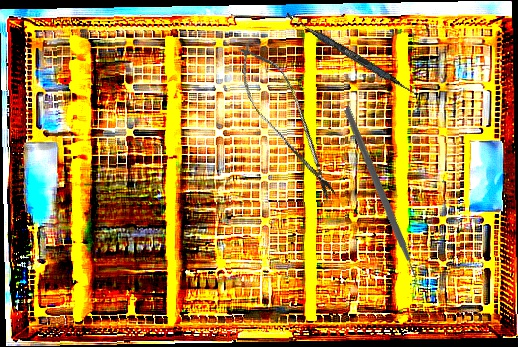Chopper: (278, 105, 478, 297)
Micro Scissor: (222, 32, 354, 211)
Spatula Surgical: (282, 12, 420, 97)
